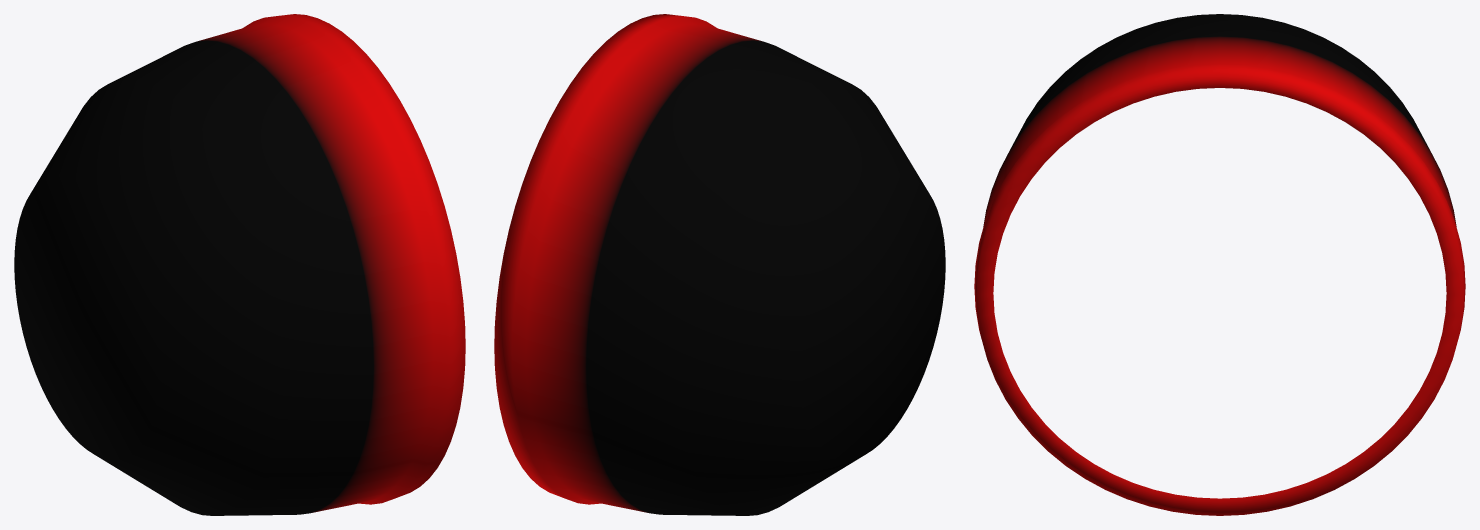
Rendered from opt_hl_round7_bucket.glb.
3 renders of one model, left to right at view 1: azimuth 30°, elevation 25°; view 2: azimuth 150°, elevation 25°; view 3: azimuth 270°, elevation 25°, orthographic.
Parts seen in each view (by area): view 1: opt_hl_round7_bucket; view 2: opt_hl_round7_bucket; view 3: opt_hl_round7_bucket.
Boxes of the visible parts, bbox=[...] form: opt_hl_round7_bucket: bbox=[14, 14, 465, 515]; opt_hl_round7_bucket: bbox=[494, 14, 945, 515]; opt_hl_round7_bucket: bbox=[974, 14, 1465, 515].
Size of the model in its own units: 0.113 by 0.1833 by 0.1833.
